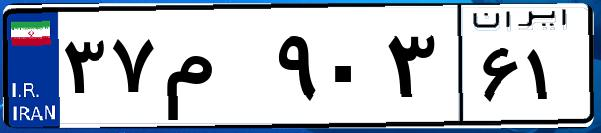0: (330, 28, 385, 110)
1: (525, 38, 570, 115)
3: (385, 28, 445, 110), (57, 26, 110, 100)
6: (475, 38, 525, 113)
7: (110, 28, 158, 98)
9: (270, 28, 330, 110)
م: (158, 20, 270, 120)
